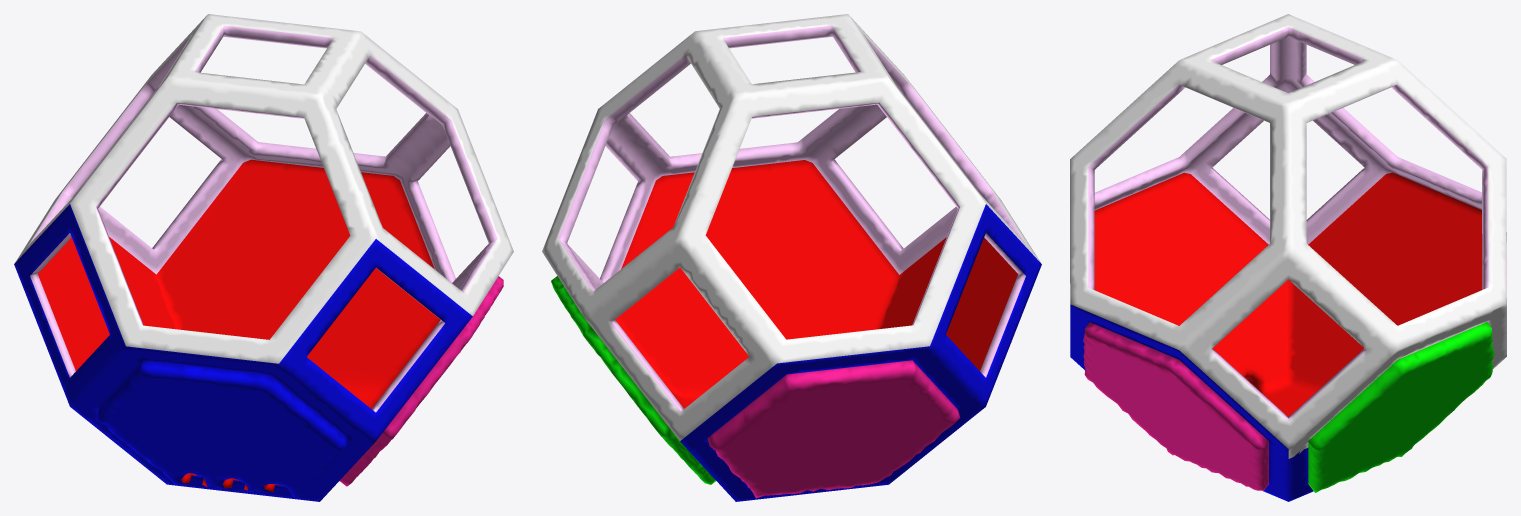
The model's file is model_33615_segmented.obj.
The picture shows the model from 3 angles, left to right: view 1: azimuth 30°, elevation 25°; view 2: azimuth 150°, elevation 25°; view 3: azimuth 270°, elevation 25°; orthographic projection. The views are drawn at different scales.
Size of the model in its own units: 100 by 100 by 100.
